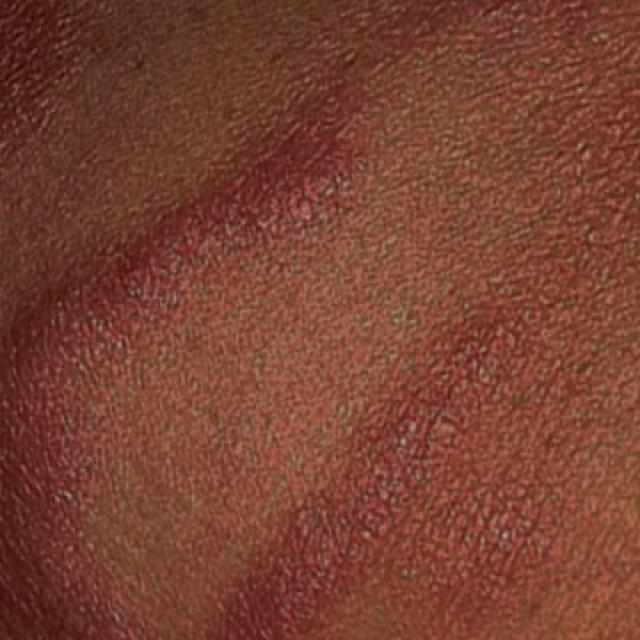Leprosy: (204, 307, 638, 638), (0, 212, 151, 634), (156, 85, 394, 306), (0, 0, 149, 154)
